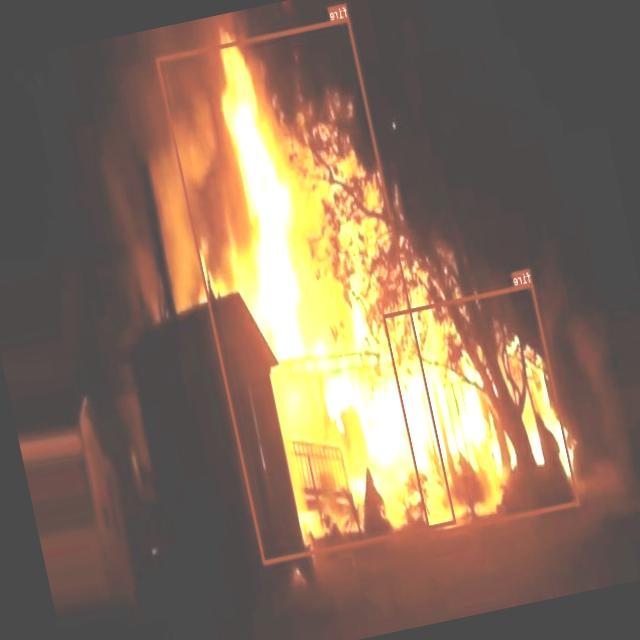fire: (156, 16, 457, 564), (382, 281, 580, 536)
